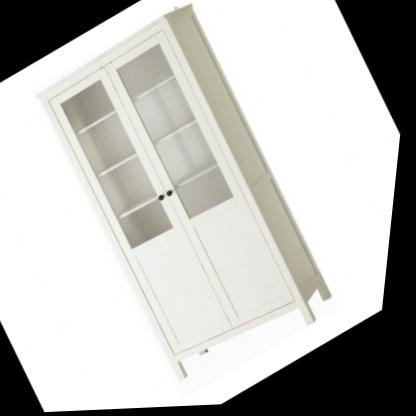Cabinet: (4, 0, 377, 413)
